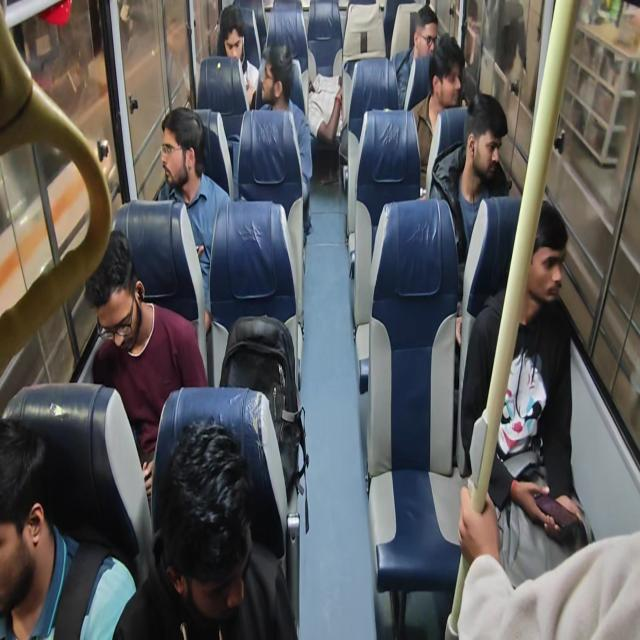person: (458, 198, 592, 588), (0, 1, 112, 377), (111, 418, 298, 638), (84, 229, 208, 509), (0, 416, 137, 639), (445, 484, 640, 639), (426, 91, 509, 345), (156, 106, 231, 330), (253, 42, 313, 235), (409, 33, 465, 196), (392, 5, 438, 109), (216, 5, 259, 110), (164, 2, 197, 110), (307, 72, 343, 144), (412, 5, 438, 59)
